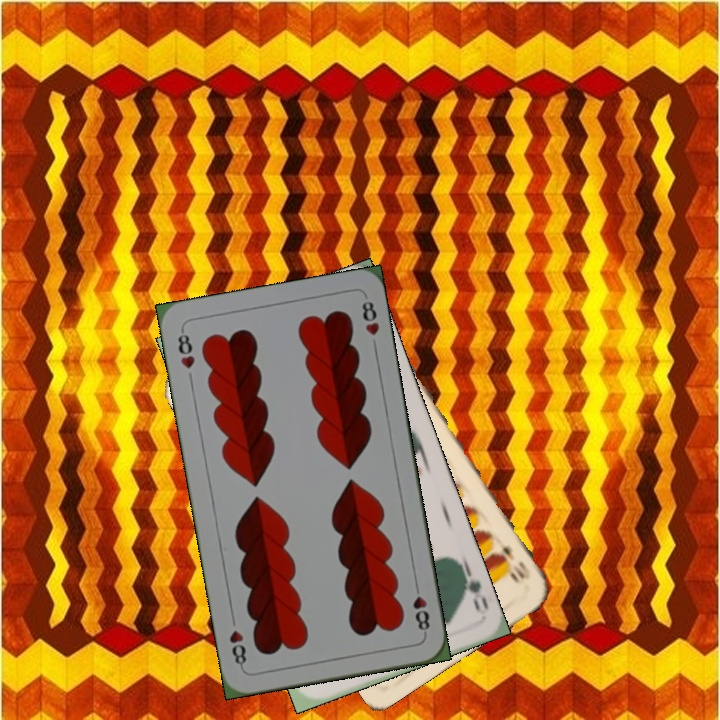E10: (498, 541, 533, 582)
GO: (453, 558, 491, 617)
H8: (409, 578, 432, 637), (174, 326, 198, 372)
